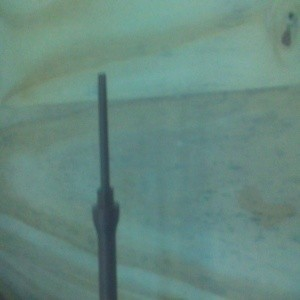obeng: (91, 71, 121, 300)
